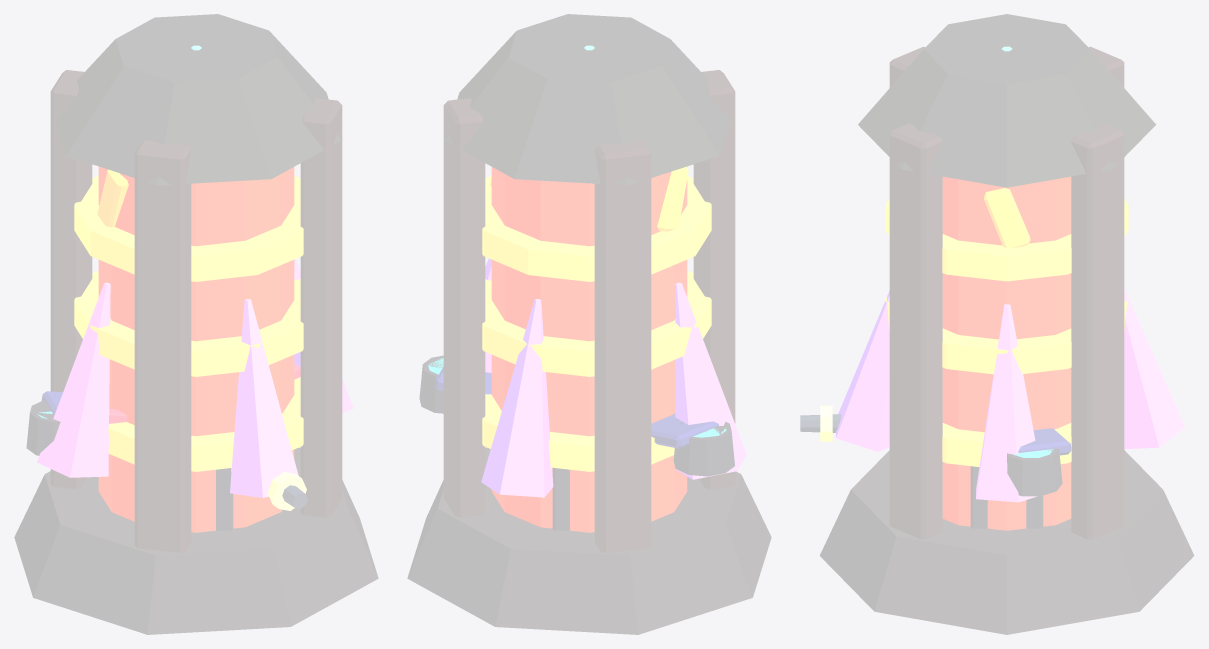
The model's file is stage_landmarks.glb.
3 views of the same model, side by side, from view 1: azimuth 30°, elevation 25°; view 2: azimuth 150°, elevation 25°; view 3: azimuth 270°, elevation 25° (orthographic).
Visible parts, largest first — view 1: Prop_FoundryCore, Prop_CryoObelisk, Enemy_SniperDrone, Prop_HackBeacon; view 2: Prop_FoundryCore, Prop_CryoObelisk, Enemy_SniperDrone, Prop_HackBeacon; view 3: Prop_FoundryCore, Prop_CryoObelisk, Enemy_SniperDrone, Prop_HackBeacon.
Boxes of the visible parts, left/top/right/bottom form: Prop_FoundryCore: left=14, top=14, right=378, bottom=634; Prop_CryoObelisk: left=37, top=45, right=353, bottom=497; Enemy_SniperDrone: left=26, top=364, right=307, bottom=510; Prop_HackBeacon: left=97, top=169, right=233, bottom=530; Prop_FoundryCore: left=407, top=14, right=771, bottom=634; Prop_CryoObelisk: left=443, top=45, right=746, bottom=497; Enemy_SniperDrone: left=419, top=355, right=734, bottom=476; Prop_HackBeacon: left=490, top=166, right=688, bottom=530; Prop_FoundryCore: left=819, top=14, right=1194, bottom=634; Prop_CryoObelisk: left=836, top=46, right=1184, bottom=502; Enemy_SniperDrone: left=800, top=405, right=1071, bottom=496; Prop_HackBeacon: left=970, top=188, right=1043, bottom=528.
Size of the model in its own units: 2.16 by 3.22 by 2.27.
